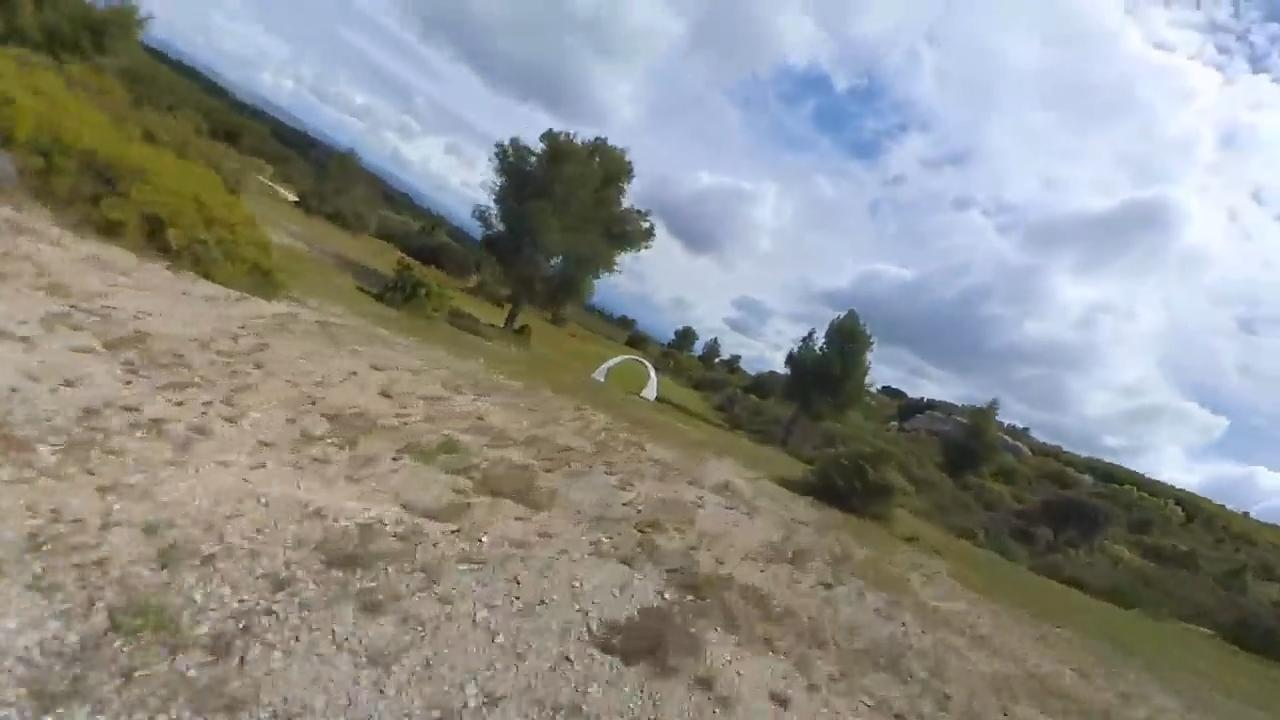gate: (591, 354, 657, 407)
